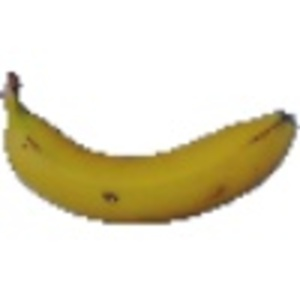banana: (1, 63, 299, 227)
